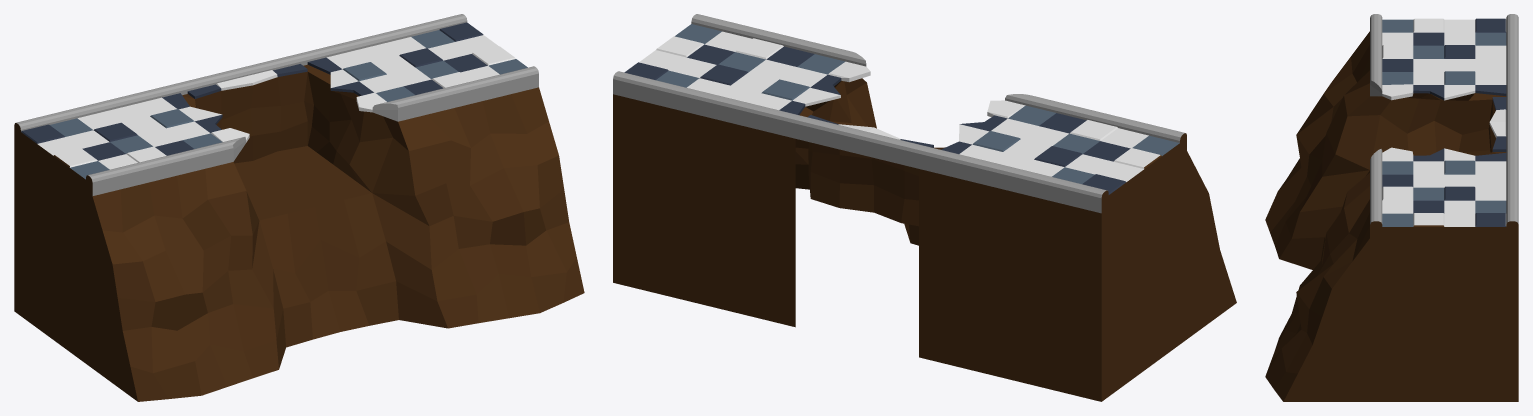
The model's file is road_spikes_trap.fbx.
The picture shows the model from 3 angles, left to right: view 1: azimuth 30°, elevation 25°; view 2: azimuth 150°, elevation 25°; view 3: azimuth 270°, elevation 25°; orthographic projection. The views are drawn at different scales.
Parts seen in each view (by area): view 1: road_spikes_trap; view 2: road_spikes_trap; view 3: road_spikes_trap.
Boxes of the visible parts, x1,y1,x2,y2 form: road_spikes_trap: (14, 14, 584, 401); road_spikes_trap: (613, 14, 1236, 401); road_spikes_trap: (1265, 14, 1518, 401).
Bounding box in the file's own units: 792 × 322 × 409.
